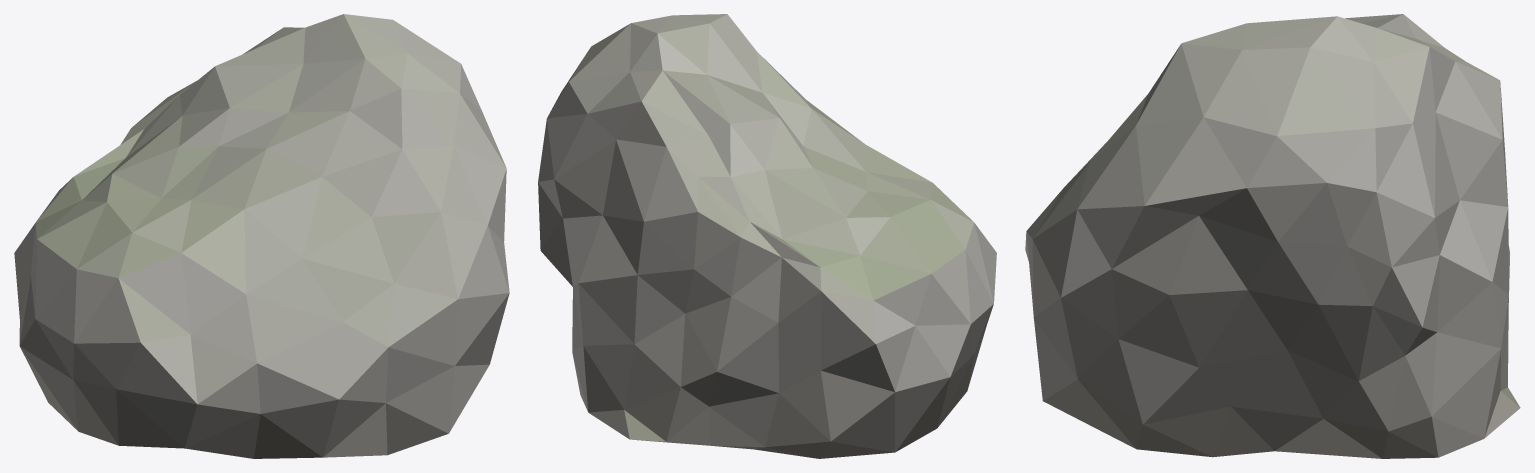
3 renders of one model, left to right at view 1: azimuth 30°, elevation 25°; view 2: azimuth 150°, elevation 25°; view 3: azimuth 270°, elevation 25°, orthographic. The views are drawn at different scales.
Parts seen in each view (by area): view 1: pedra_lowpoly_c; view 2: pedra_lowpoly_c; view 3: pedra_lowpoly_c.
Boxes of the visible parts, x1,y1,x2,y2 form: pedra_lowpoly_c: (14, 14, 509, 458); pedra_lowpoly_c: (538, 14, 996, 458); pedra_lowpoly_c: (1025, 14, 1520, 458).
Size of the model in its own units: 1.43 by 1.14 by 1.22.
